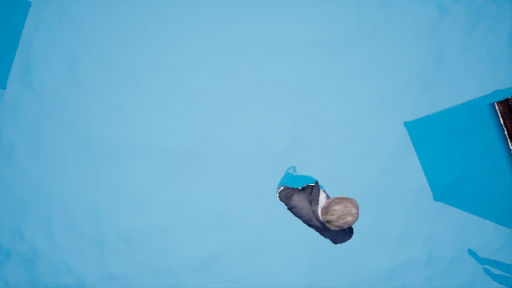person: (271, 168, 367, 251)
